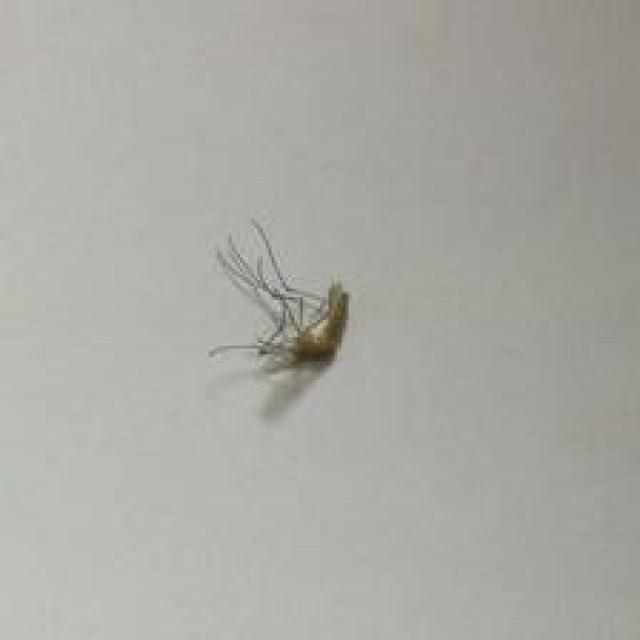Culex: (206, 217, 351, 417)
